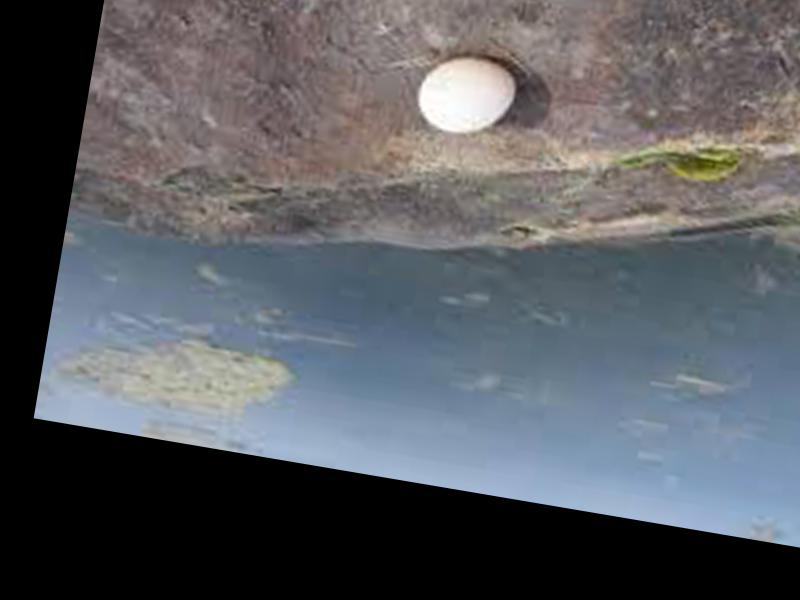Eggs: (408, 50, 518, 142)
